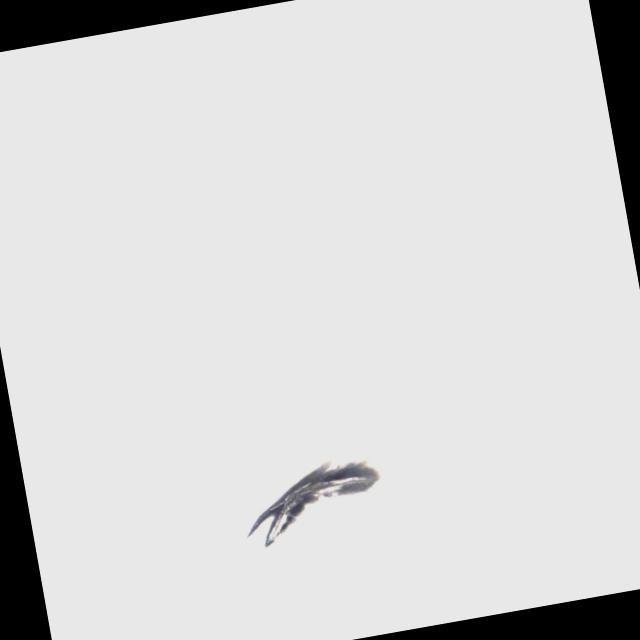crack: (234, 452, 392, 554)
